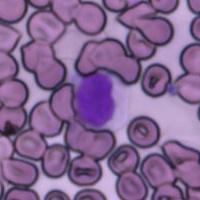M: (74, 71, 130, 130)
